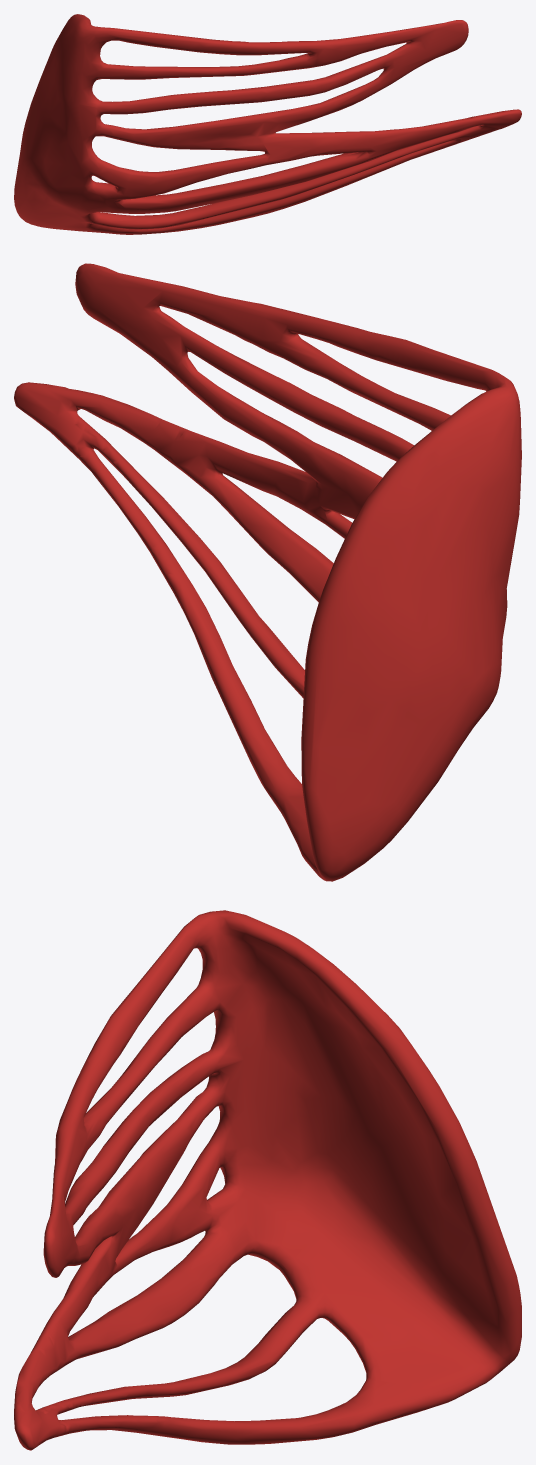
Rendered from circulatorio-septal-leaflet-of-right-atrioventricular-valve.glb.
3 renders of one model, top to bottom at view 1: azimuth 30°, elevation 25°; view 2: azimuth 150°, elevation 25°; view 3: azimuth 270°, elevation 25°, orthographic. The views are drawn at different scales.
Visible parts, largest first — view 1: Septal leaflet of right atrioventricular valve; view 2: Septal leaflet of right atrioventricular valve; view 3: Septal leaflet of right atrioventricular valve.
Part boxes in pixels (left/top/right/bottom): Septal leaflet of right atrioventricular valve: left=14, top=14, right=521, bottom=234; Septal leaflet of right atrioventricular valve: left=14, top=263, right=521, bottom=881; Septal leaflet of right atrioventricular valve: left=14, top=910, right=521, bottom=1450.
Size of the model in its own units: 0.0372 by 0.0241 by 0.025.
